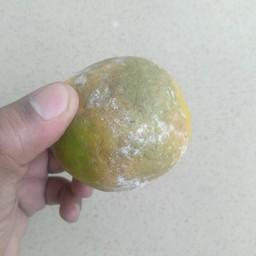Bad_orange: (52, 53, 191, 189)
